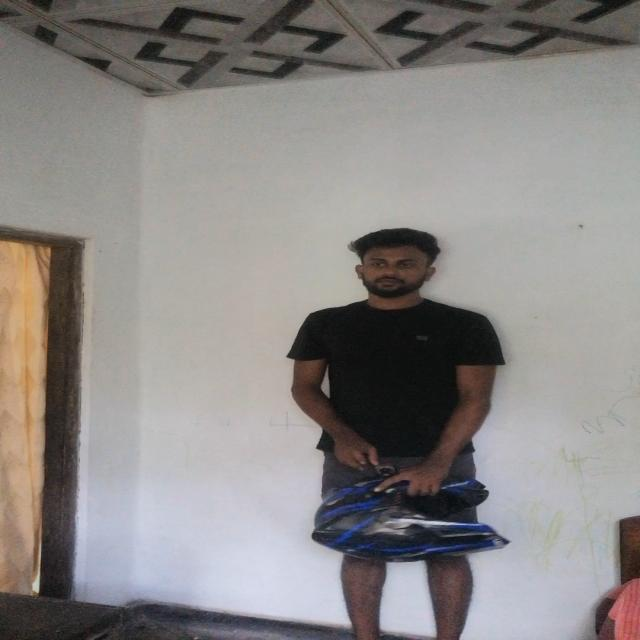Person: (283, 219, 517, 640)
